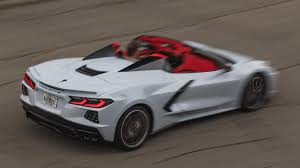car: (21, 34, 279, 147)
